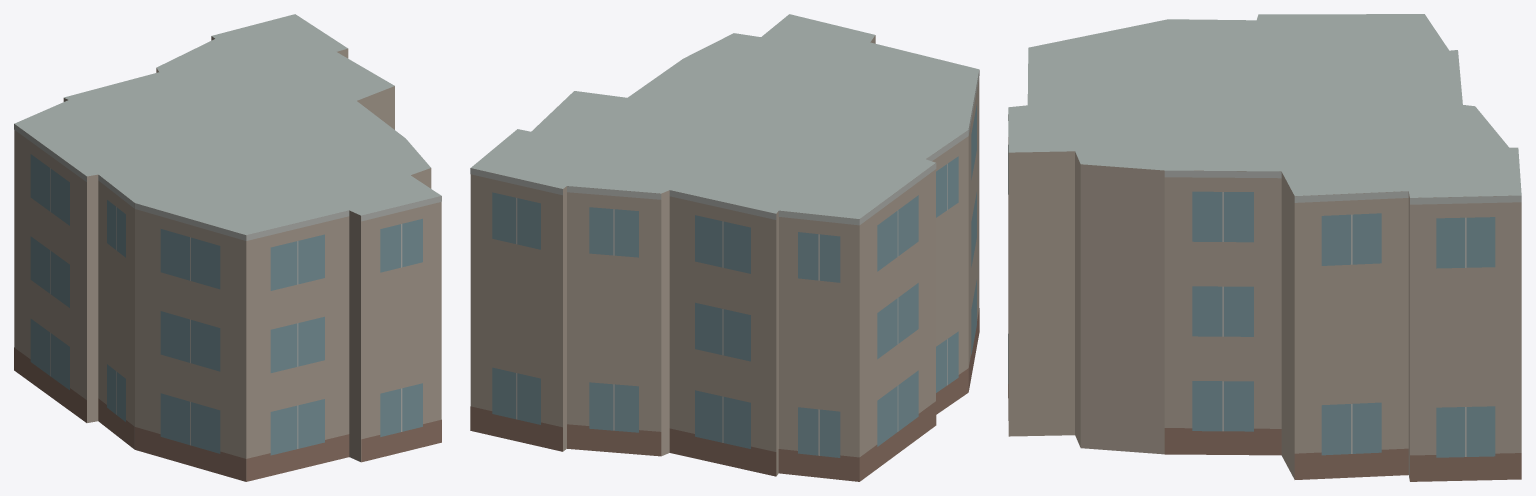
Rendered from survey-upis-32938998.glb.
The picture shows the model from 3 angles, left to right: view 1: azimuth 30°, elevation 25°; view 2: azimuth 150°, elevation 25°; view 3: azimuth 270°, elevation 25°; orthographic projection. The views are drawn at different scales.
Parts seen in each view (by area): view 1: survey-upis-32938998.tmp; view 2: survey-upis-32938998.tmp; view 3: survey-upis-32938998.tmp.
Boxes of the visible parts, <box> form: survey-upis-32938998.tmp: <box>14,14,441,481</box>; survey-upis-32938998.tmp: <box>470,14,979,481</box>; survey-upis-32938998.tmp: <box>1008,14,1521,481</box>.
Bounding box in the file's own units: 14.18 × 10.2 × 16.73.
